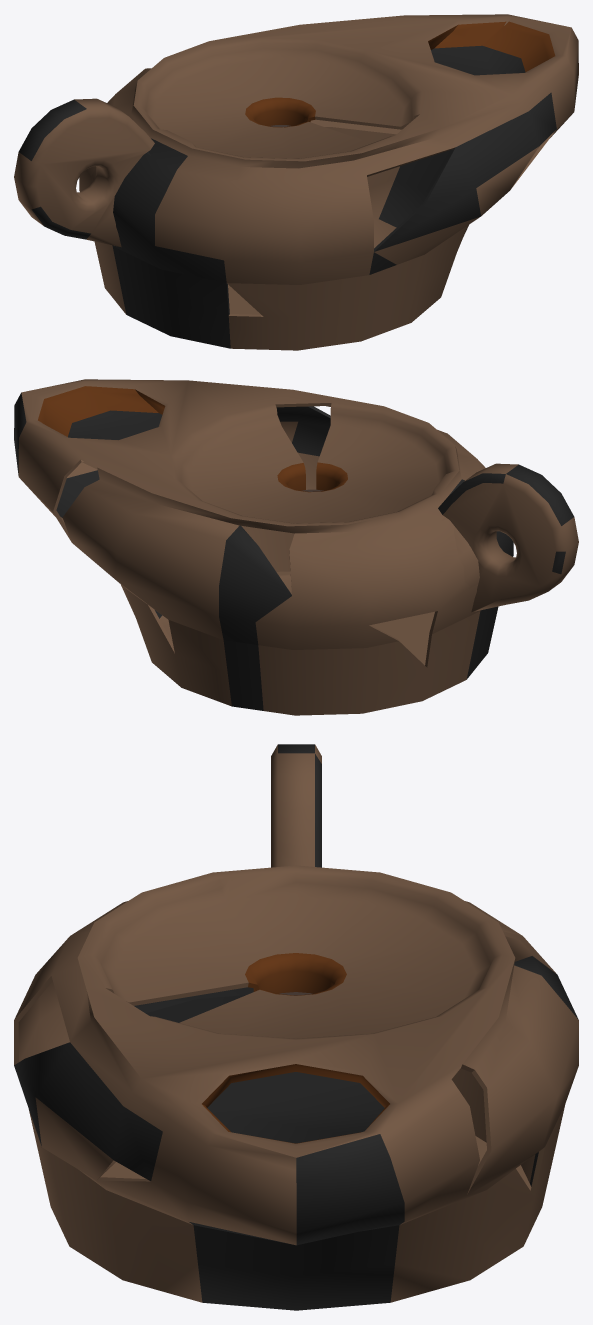
The model's file is comlek_krk.fbx.
The picture shows the model from 3 angles, top to bottom: view 1: azimuth 30°, elevation 25°; view 2: azimuth 150°, elevation 25°; view 3: azimuth 270°, elevation 25°; orthographic projection. The views are drawn at different scales.
Parts seen in each view (by area): view 1: çömlek_kırık; view 2: çömlek_kırık; view 3: çömlek_kırık.
Boxes of the visible parts, x1=… form: çömlek_kırık: x1=14, y1=14, x2=578, y2=350; çömlek_kırık: x1=14, y1=379, x2=578, y2=715; çömlek_kırık: x1=14, y1=744, x2=578, y2=1310.
Size of the model in its own units: 0.7463 by 0.2833 by 0.457.
